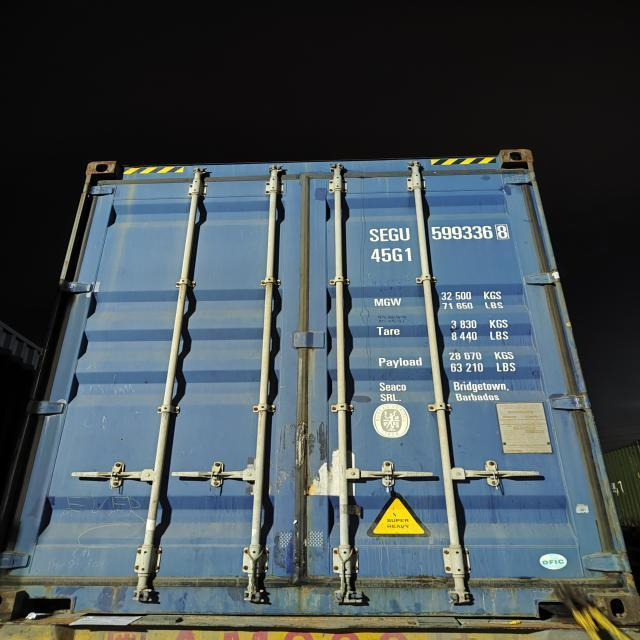ISO: (370, 247, 414, 263)
container_number: (363, 222, 514, 244)
